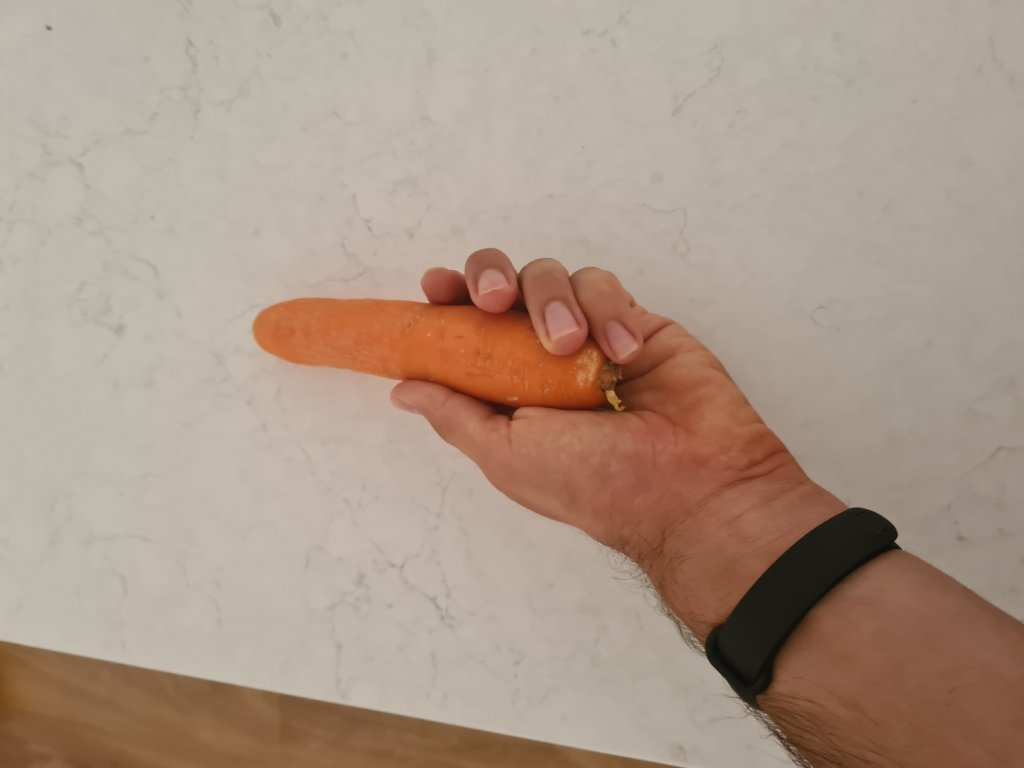carrot: (251, 290, 617, 420)
